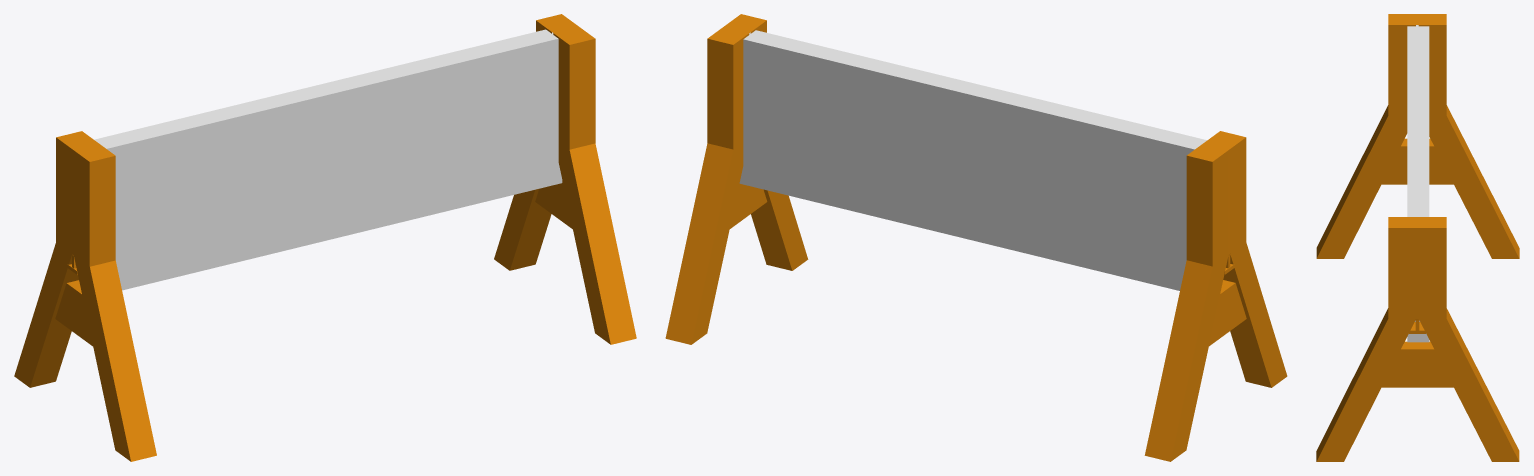
File: cavalete.fbx
3 views of the same model, side by side, from view 1: azimuth 30°, elevation 25°; view 2: azimuth 150°, elevation 25°; view 3: azimuth 270°, elevation 25° (orthographic). The views are drawn at different scales.
Visible parts, largest first — view 1: cavalete; view 2: cavalete; view 3: cavalete.
Boxes of the visible parts, bbox=[...] form: cavalete: bbox=[14, 14, 636, 461]; cavalete: bbox=[665, 14, 1287, 461]; cavalete: bbox=[1316, 14, 1519, 461].
Size of the model in its own units: 261 by 133 by 105.
